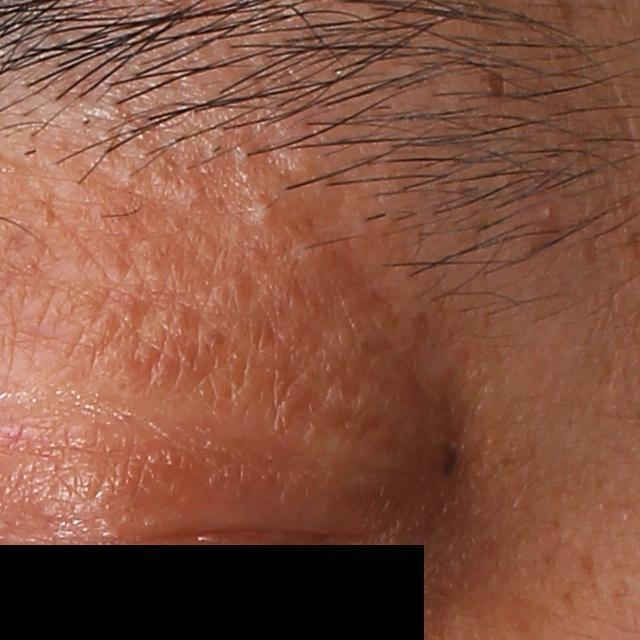comedo: (537, 200, 562, 227)
nevus: (441, 437, 458, 482)
